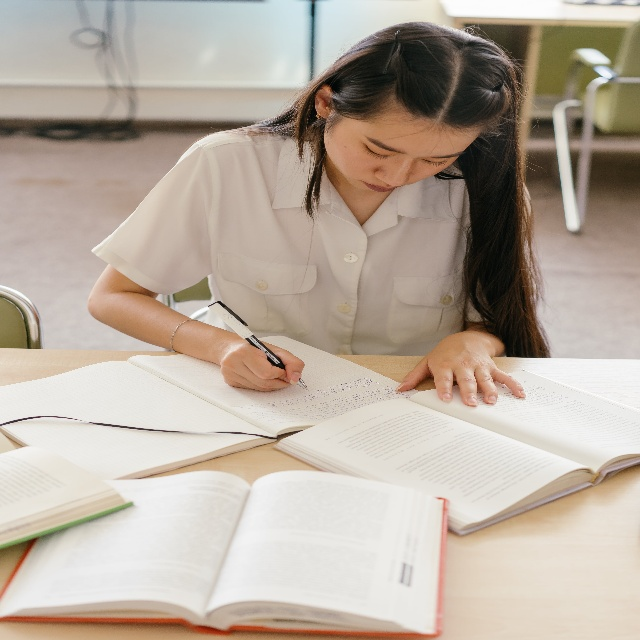Sin_guantes: (396, 333, 527, 406), (220, 335, 305, 393)
